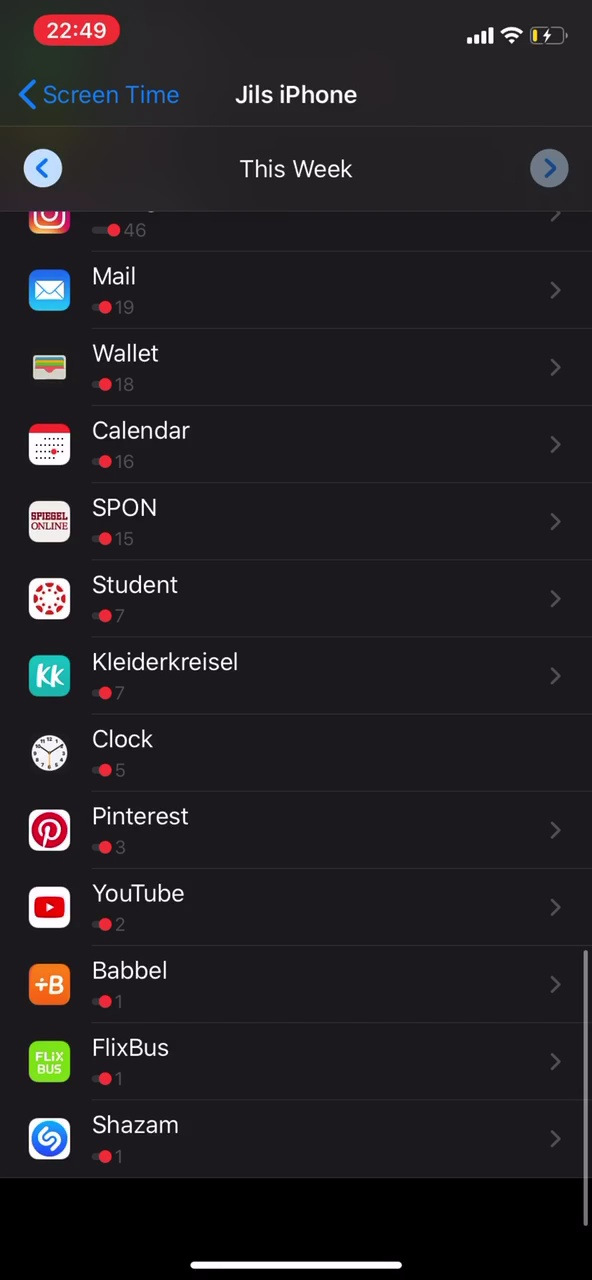not_app: (20, 1096, 326, 1177), (18, 949, 322, 1027), (17, 399, 290, 478), (18, 483, 298, 560), (20, 636, 300, 710), (17, 1028, 337, 1092), (17, 563, 300, 633), (22, 713, 304, 783), (17, 257, 275, 330), (20, 872, 275, 944), (20, 786, 243, 867), (18, 330, 282, 397)
week: (235, 152, 364, 183)
